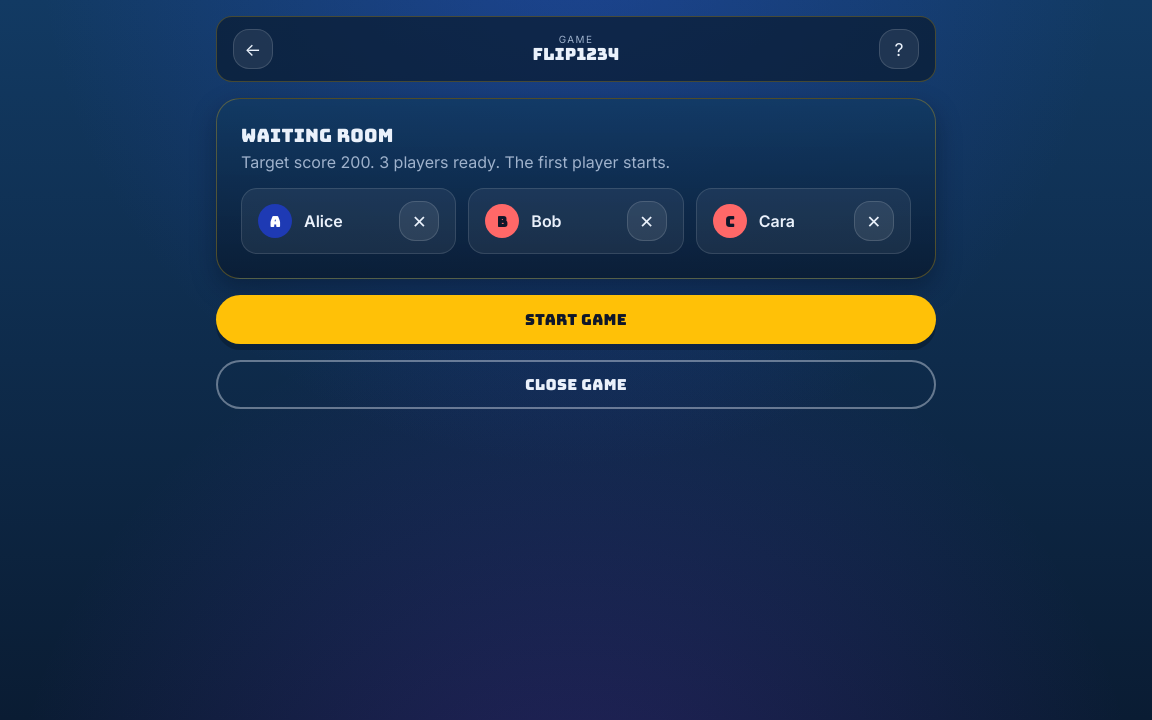
it: Page guard-path coverage behavior › shows remove-player spinner path while waiting-room removal is pending
Expected: the heading "Waiting room" is shown, [241,123,394,148]
Click the button named "Remove Bob": point(647, 221) [627,201,667,241]
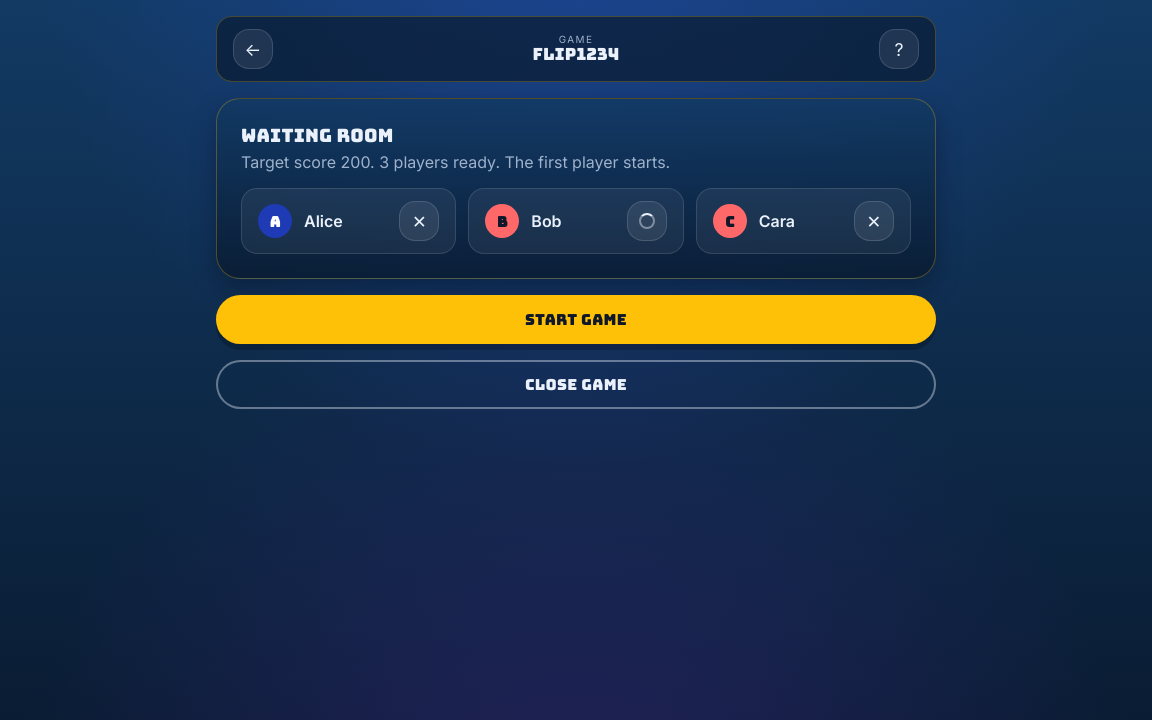
Expected: the element with class "btnSpinner" is shown, [639,213,655,229]
